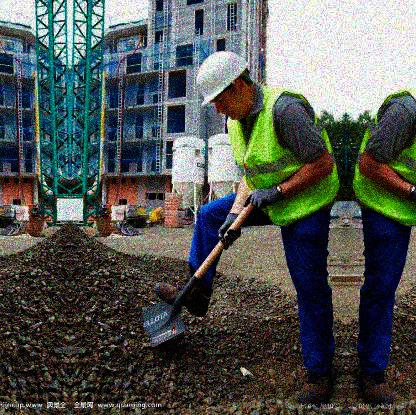helmet: (195, 51, 259, 123)
